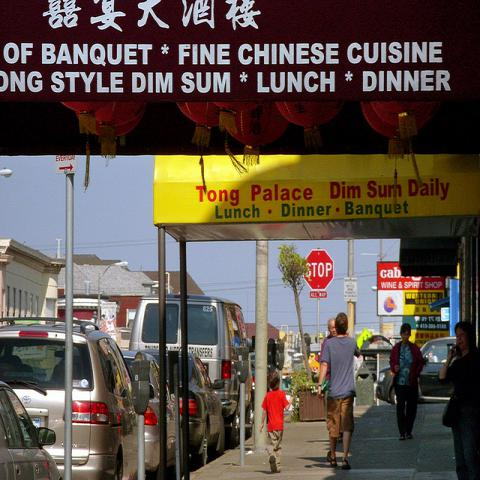bus: (127, 291, 254, 452)
car: (2, 323, 140, 474), (121, 350, 175, 474), (0, 378, 65, 474), (376, 336, 456, 406), (189, 355, 229, 467), (117, 326, 132, 350), (252, 361, 255, 398), (282, 371, 293, 381)
